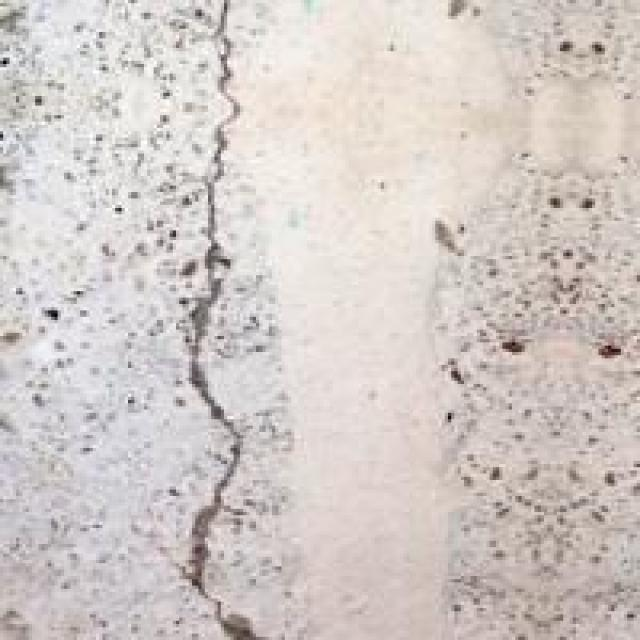crack: (134, 3, 310, 637)
